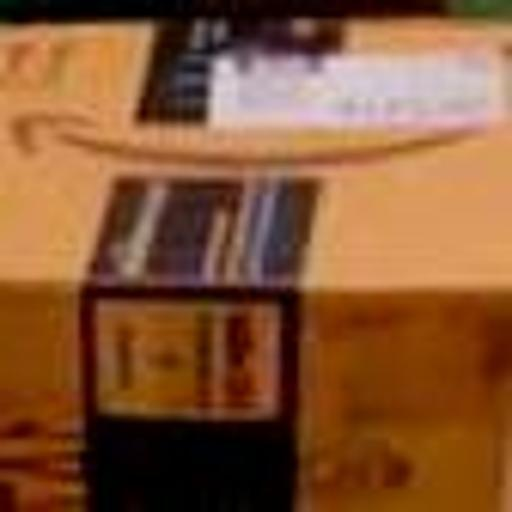Amazon: (0, 15, 511, 502)
